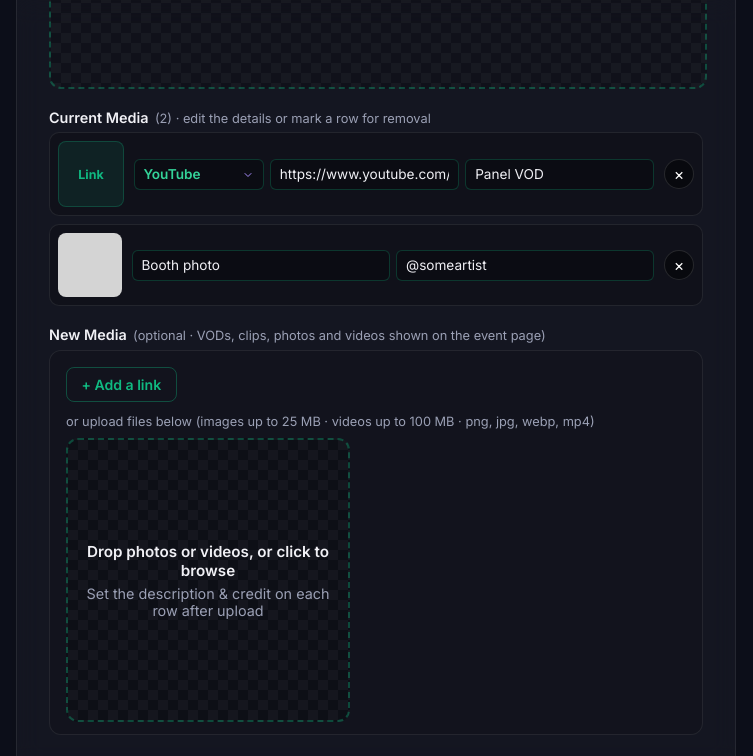
it: EditEvent media › blocks submission while a new link is missing its platform
The width and height of the screenshot is (753, 756).
(page scrolled)
Click the button "+ Add a link" at point(121, 384), box [66,367,177,402]
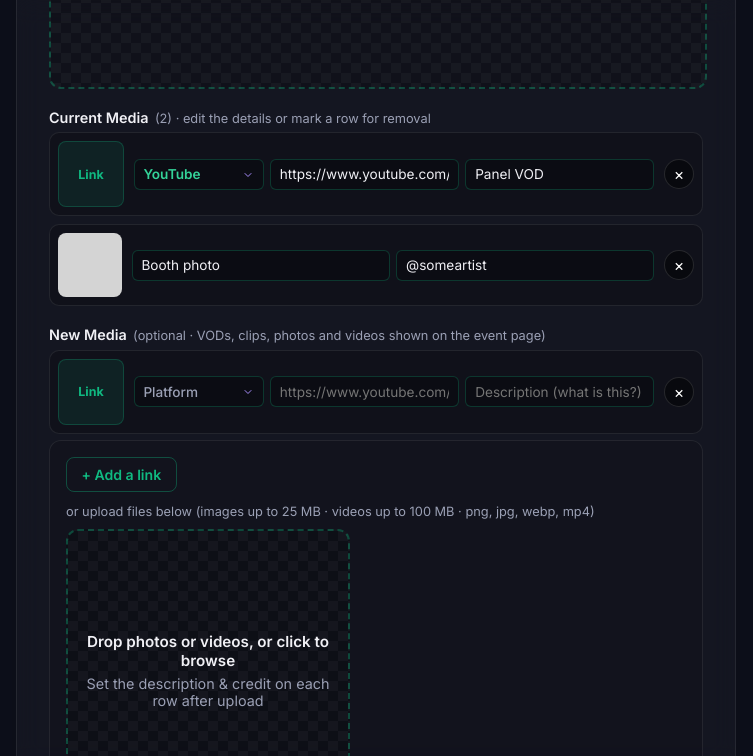
Type "https://example.com/post" into the field named "Link for media" at point(364, 392), box [270,376,459,407]
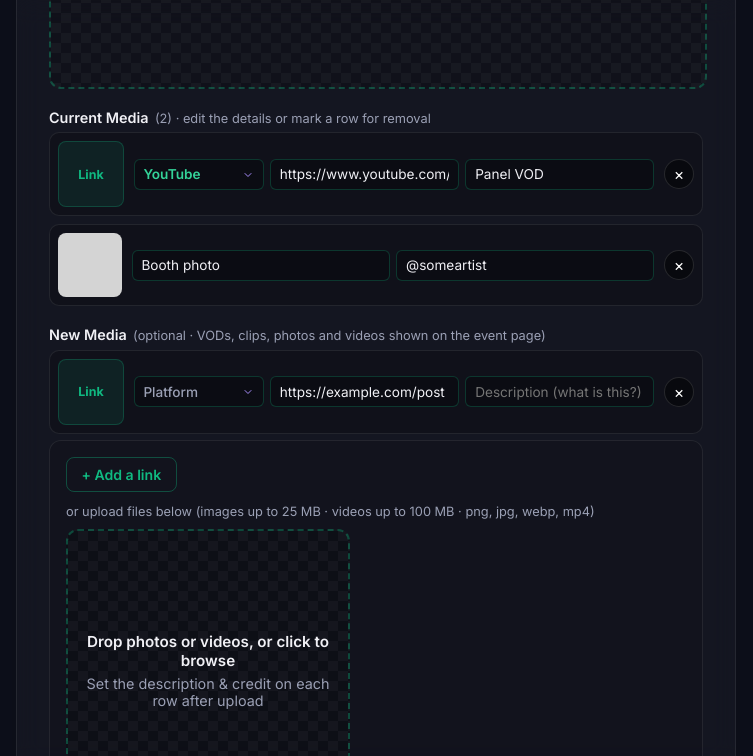
Select "Facebook" in the dropdown named "Platform for https://example.com/post" at point(199, 392), box [134,376,264,407]
(page scrolled)
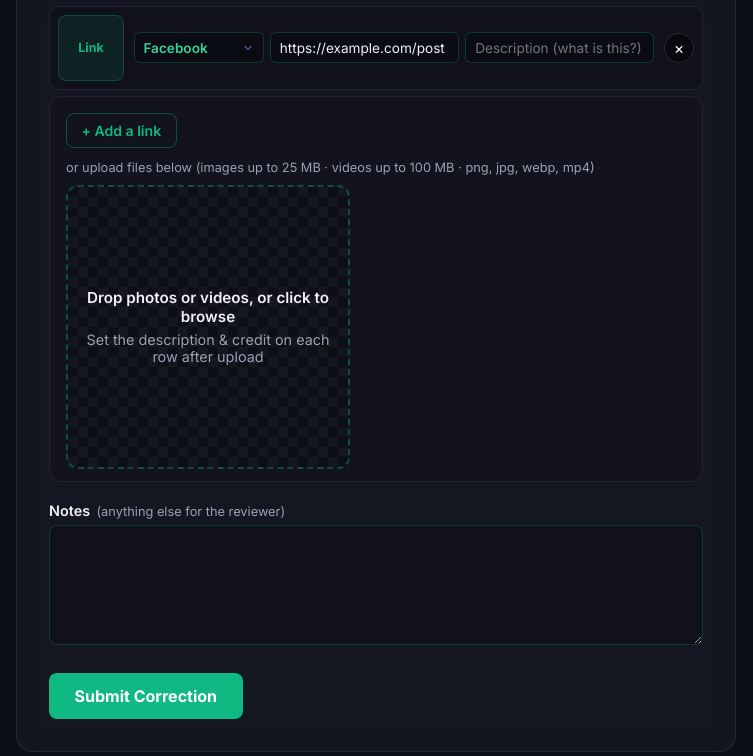
Now the button "Submit Correction" is enabled, box [49,673,243,719]
